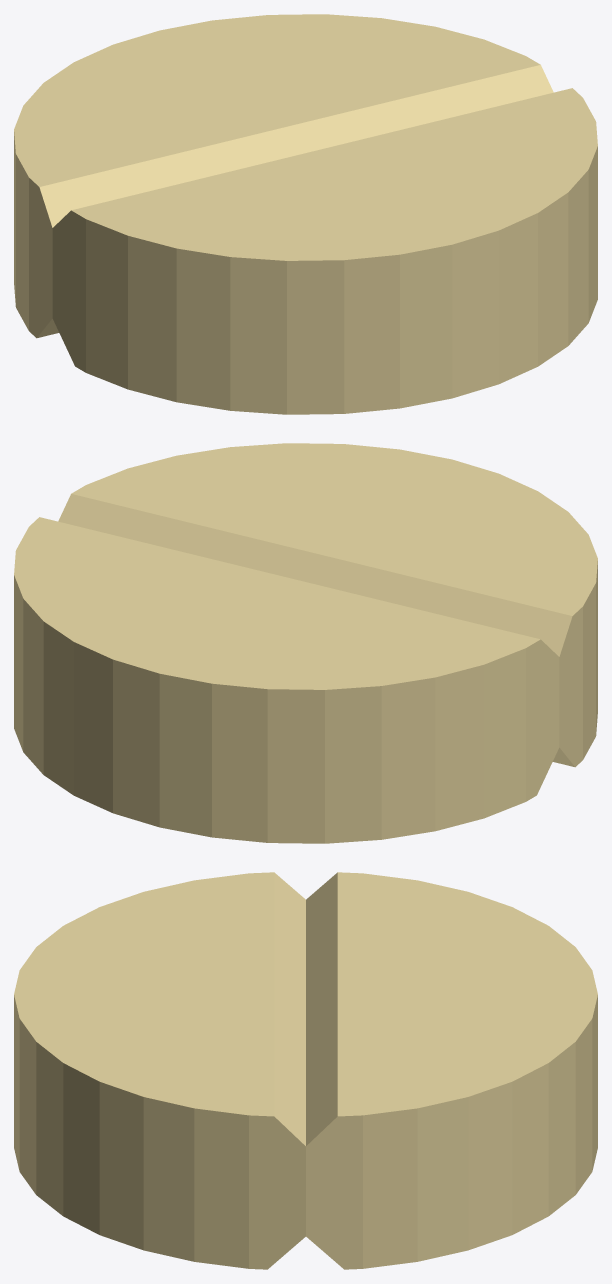
The model's file is pill.fbx.
The picture shows the model from 3 angles, top to bottom: view 1: azimuth 30°, elevation 25°; view 2: azimuth 150°, elevation 25°; view 3: azimuth 270°, elevation 25°; orthographic projection.
Parts seen in each view (by area): view 1: Cylinder.009; view 2: Cylinder.009; view 3: Cylinder.009.
Part boxes in pixels (x1=…): Cylinder.009: x1=14, y1=14, x2=597, y2=414; Cylinder.009: x1=14, y1=443, x2=597, y2=843; Cylinder.009: x1=14, y1=872, x2=597, y2=1269.
Bounding box in the file's own units: 51.11 × 14.82 × 51.11.
